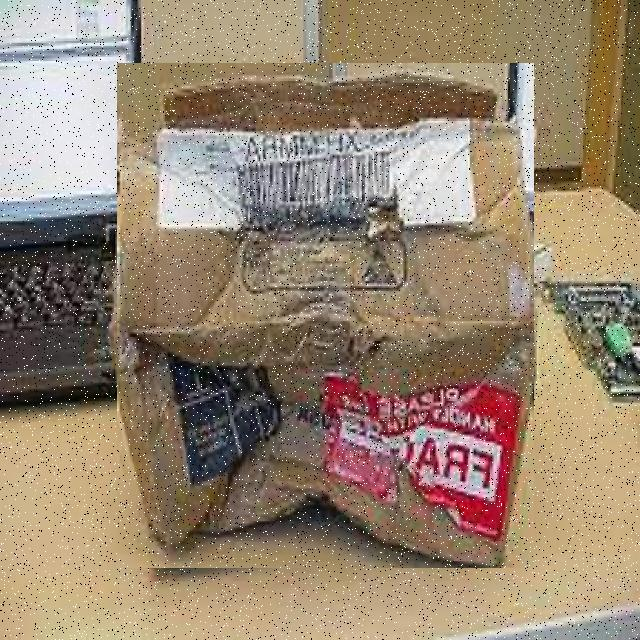defect: (117, 63, 534, 568)
